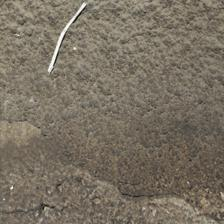Crack: (0, 54, 92, 164), (61, 82, 79, 123)
